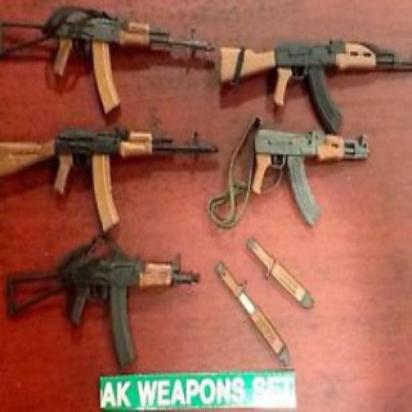Gun: (0, 238, 201, 372), (0, 118, 221, 235), (0, 4, 211, 114), (201, 16, 411, 124), (215, 112, 381, 238)
